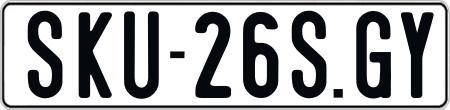2: (192, 12, 233, 104)
6: (240, 12, 277, 99)
G: (355, 10, 390, 99)
K: (76, 11, 109, 103)
S: (27, 10, 64, 98), (290, 8, 326, 95)
U: (121, 9, 161, 97)
Y: (400, 12, 432, 98)
